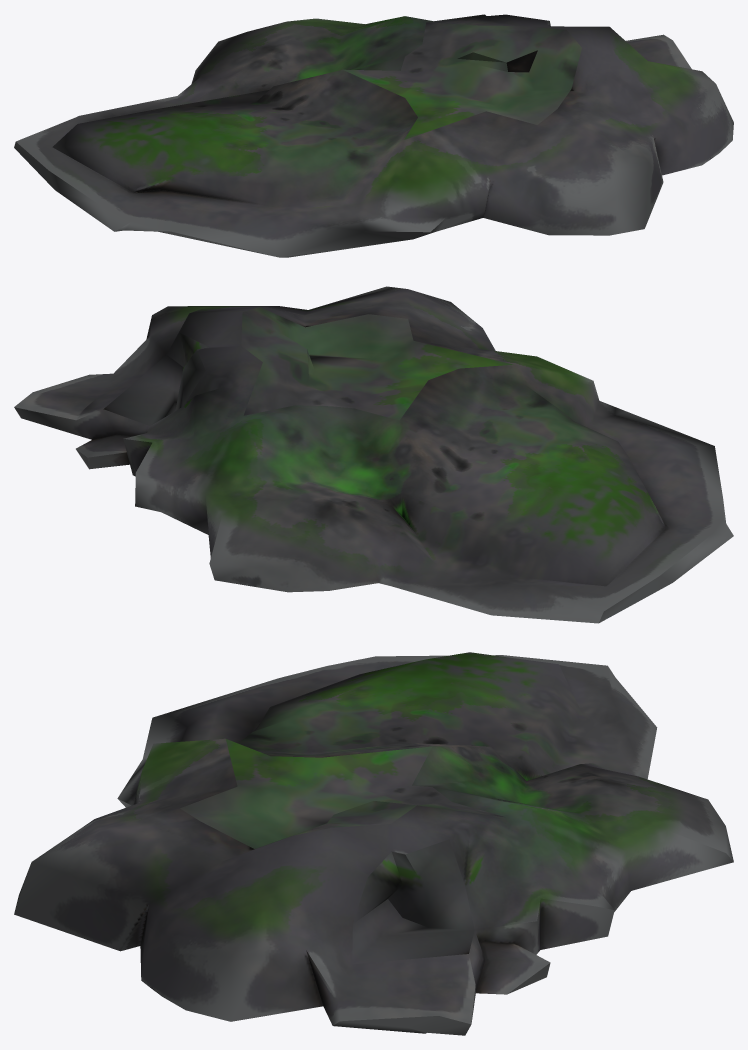
Rendered from Small island.fbx.
The picture shows the model from 3 angles, top to bottom: view 1: azimuth 30°, elevation 25°; view 2: azimuth 150°, elevation 25°; view 3: azimuth 270°, elevation 25°; orthographic projection. The views are drawn at different scales.
Parts seen in each view (by area): view 1: polySurface1; view 2: polySurface1; view 3: polySurface1.
Boxes of the visible parts, x1=… form: polySurface1: x1=14, y1=14, x2=733, y2=257; polySurface1: x1=14, y1=286, x2=733, y2=623; polySurface1: x1=14, y1=652, x2=733, y2=1035.
Bounding box in the file's own units: 62 × 9.22 × 51.18.
